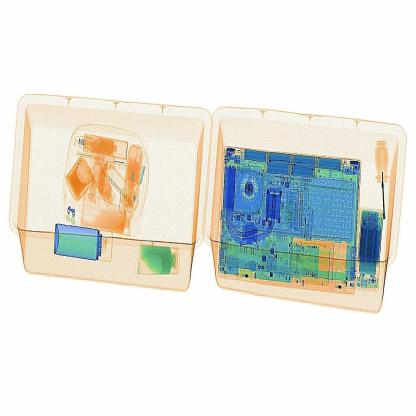wrench: (374, 132, 396, 225)
